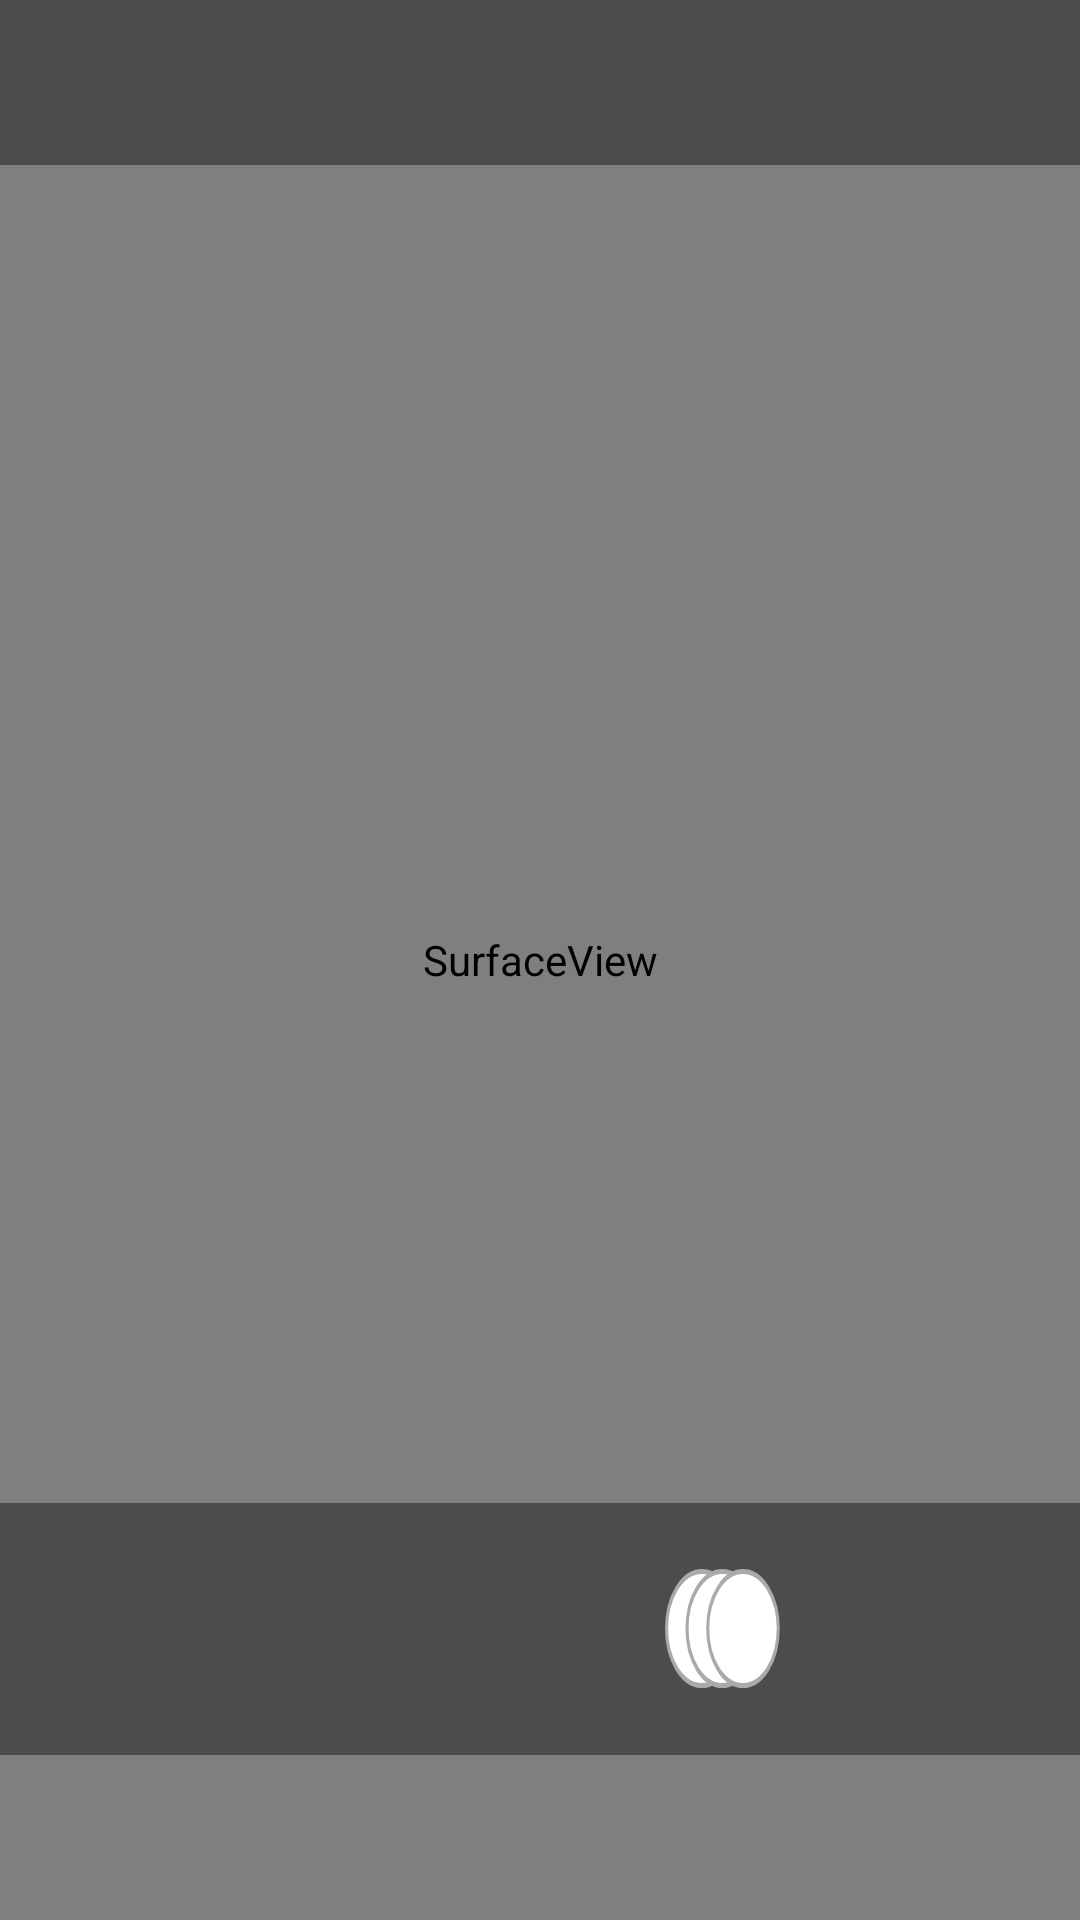

Named icons in this screenshot (1080px x 1920px) and their bounding boxes, (x1, y1, x2, y2):
multi-cap btn: (665, 1569, 780, 1688)
